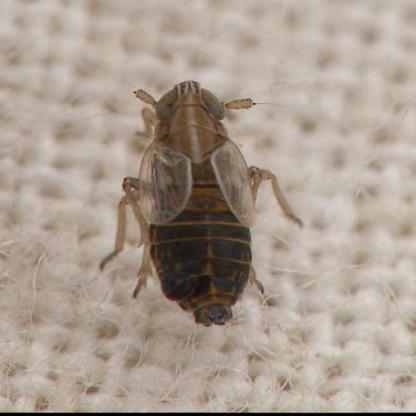brown-planthopper: (128, 85, 267, 324)
